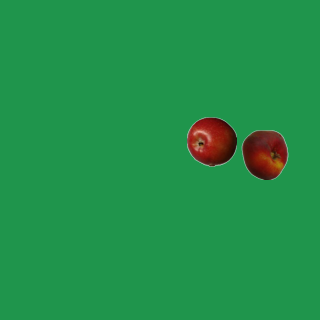Apple Braeburn: (186, 116, 236, 166)
Nectarine Flat: (239, 129, 289, 179)
